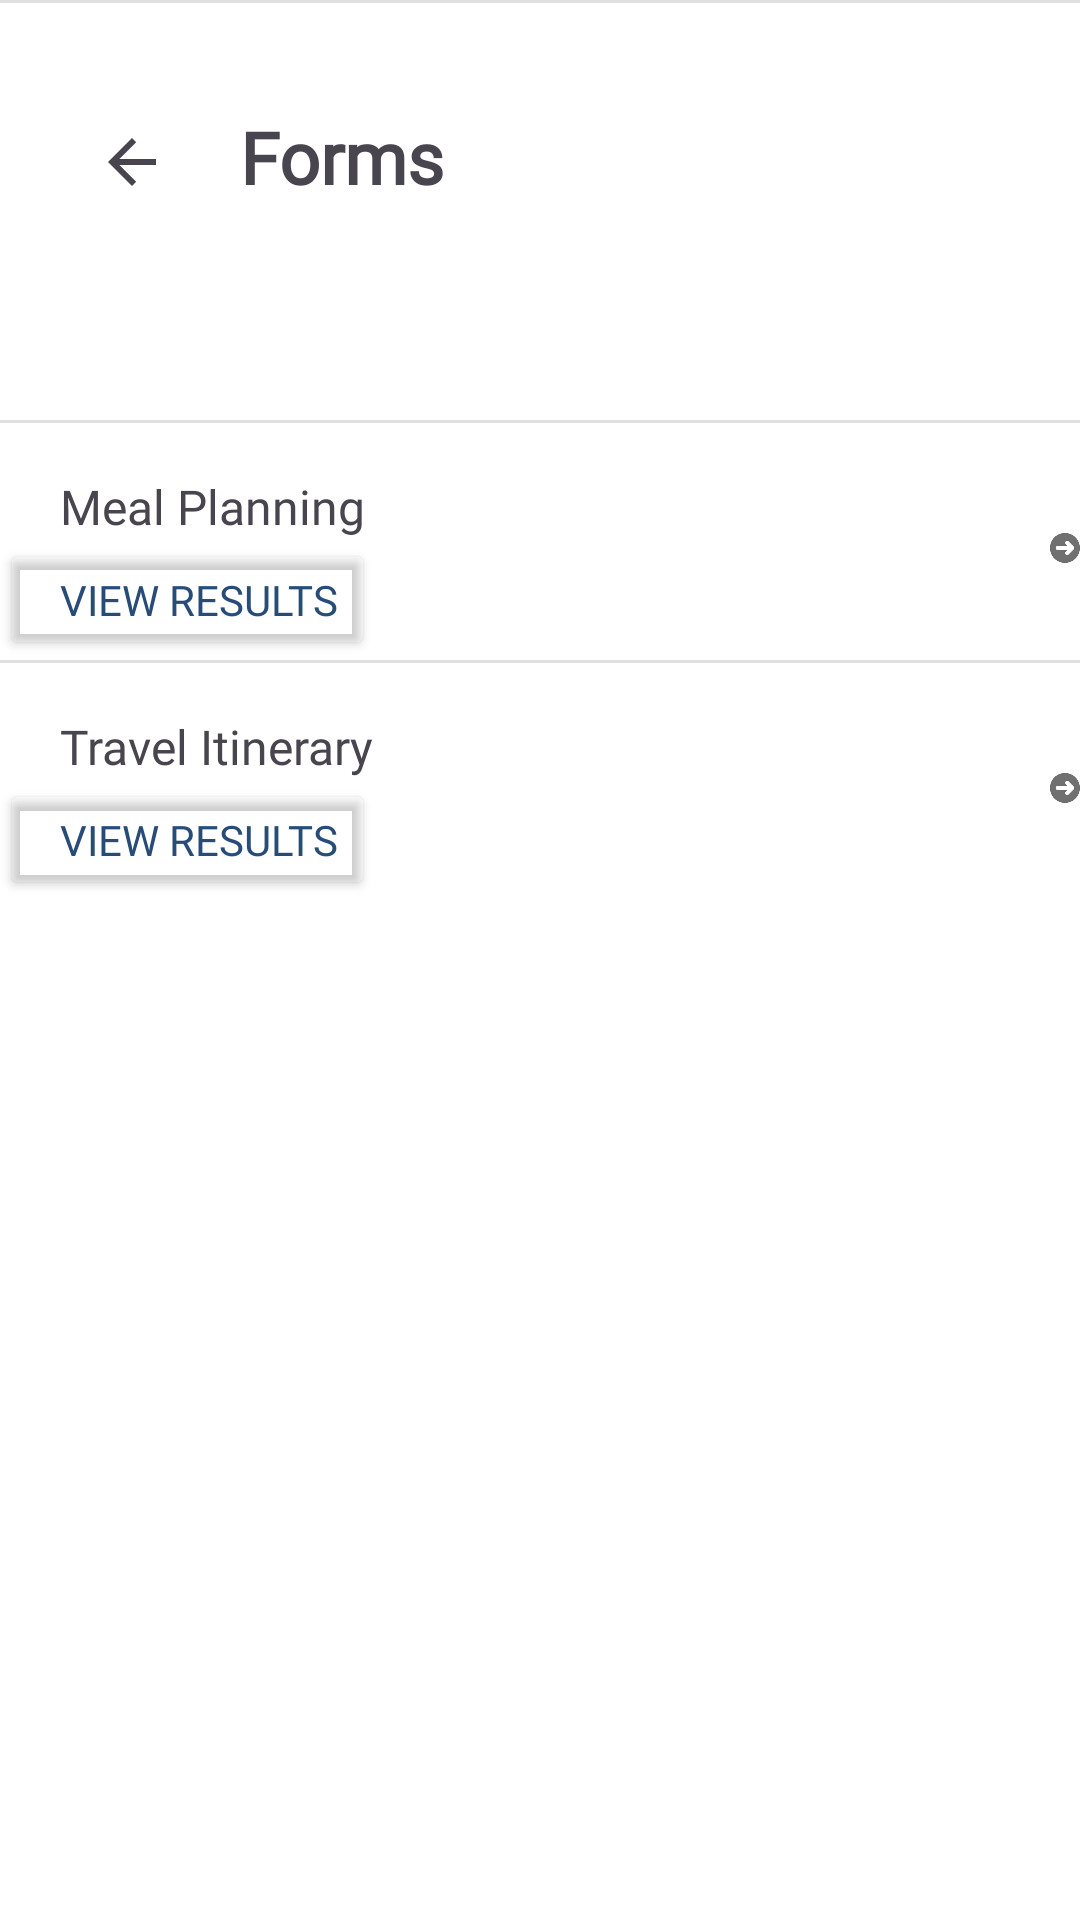

Icon click points for this 1080 x 1920 phone screenshot, format (x=x, y=y):
arrowfinal: (x=1065, y=548), (x=1065, y=788)
